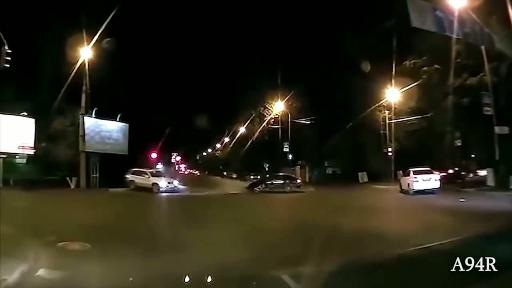CAR: (73, 101, 476, 267), (361, 125, 460, 212)
